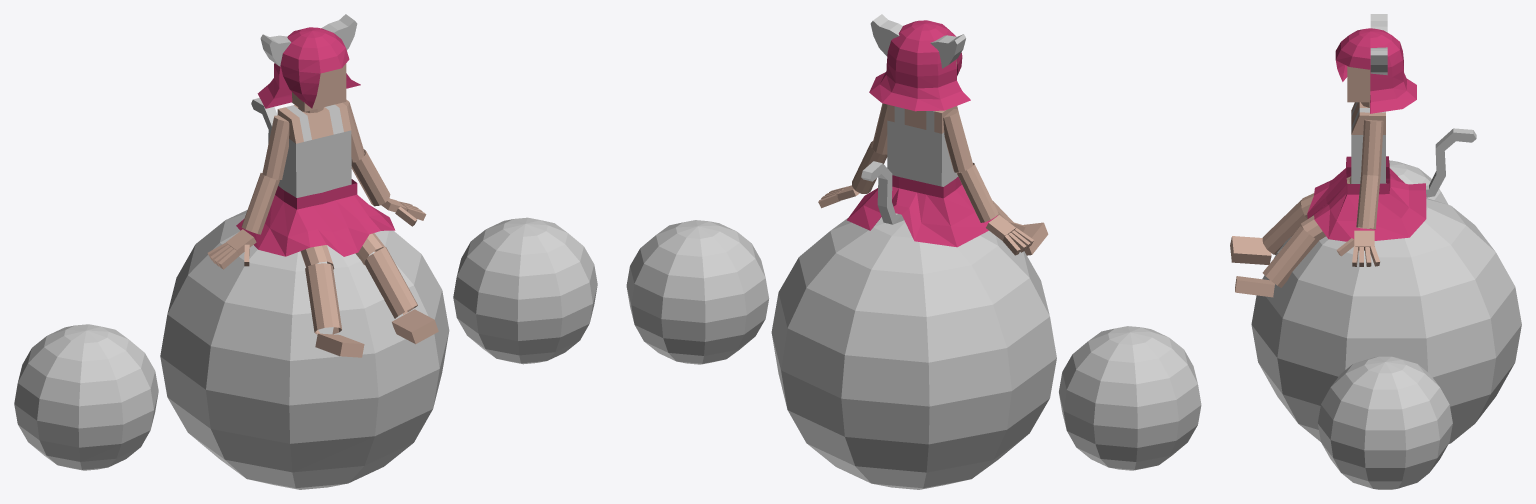
File: jiki.obj
The picture shows the model from 3 angles, left to right: view 1: azimuth 30°, elevation 25°; view 2: azimuth 150°, elevation 25°; view 3: azimuth 270°, elevation 25°; orthographic projection. The views are drawn at different scales.
Bounding box in the file's own units: 258 × 200 × 127.
